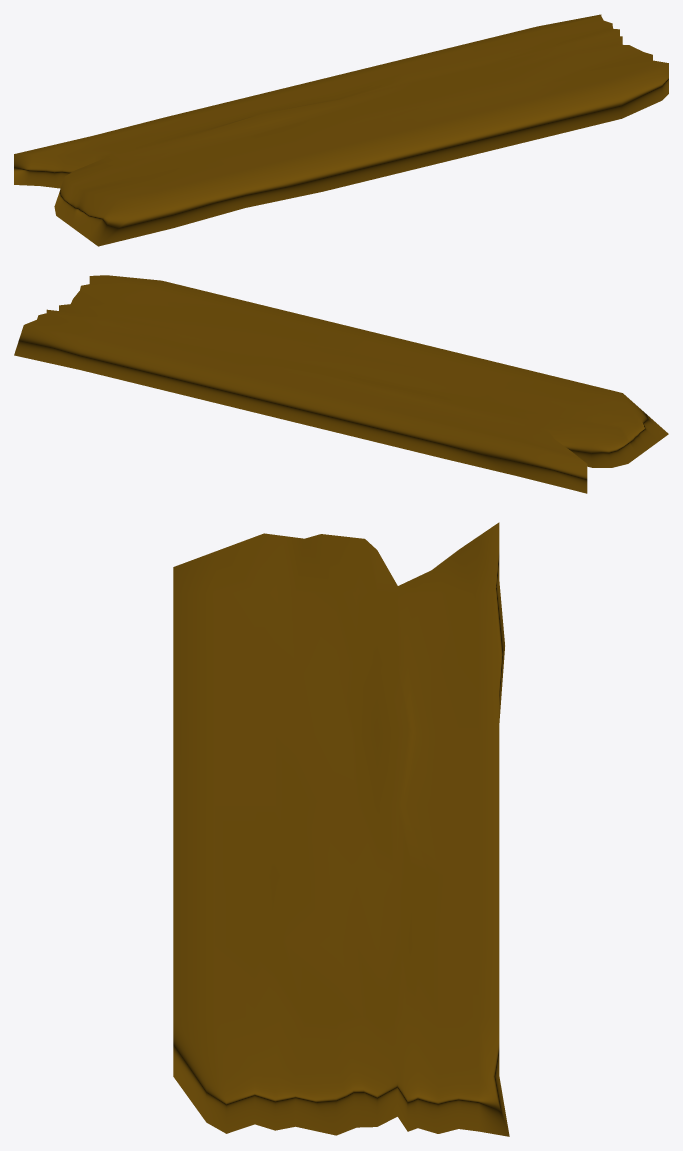
File: plank3.fbx
3 renders of one model, top to bottom at view 1: azimuth 30°, elevation 25°; view 2: azimuth 150°, elevation 25°; view 3: azimuth 270°, elevation 25°, orthographic. The views are drawn at different scales.
Parts seen in each view (by area): view 1: Cube.003; view 2: Cube.003; view 3: Cube.003.
Part boxes in pixels (bbox=[...]): Cube.003: bbox=[14, 14, 668, 246]; Cube.003: bbox=[14, 275, 668, 493]; Cube.003: bbox=[173, 522, 509, 1136].
Bounding box in the file's own units: 808 × 44.05 × 206.
